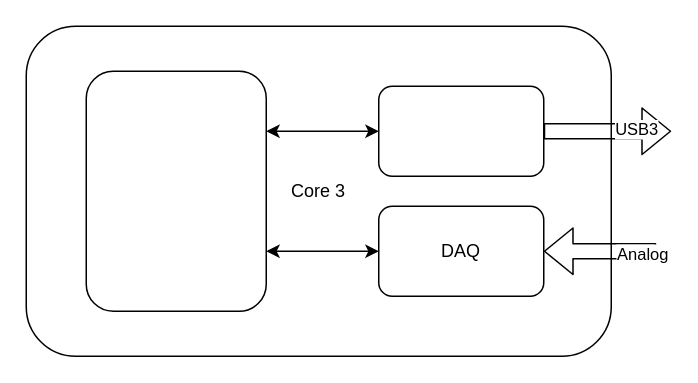
Image size: 698x383. Some labels were removed from this diagram. Here are the shapes that lost their labels. From the top down, the box of each, then its label:
(377, 85, 544, 176): FT60X
(85, 70, 266, 311): efinix FPGA Module === XME0712 Artix 7
